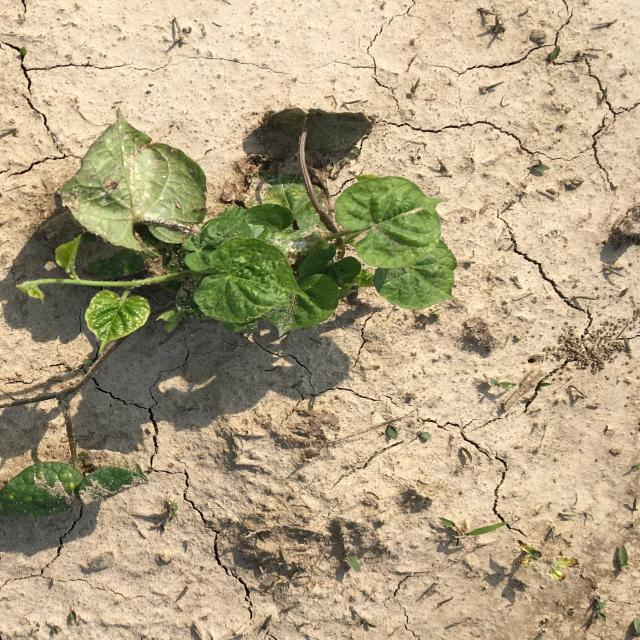MorningGlory: (1, 108, 458, 518)
